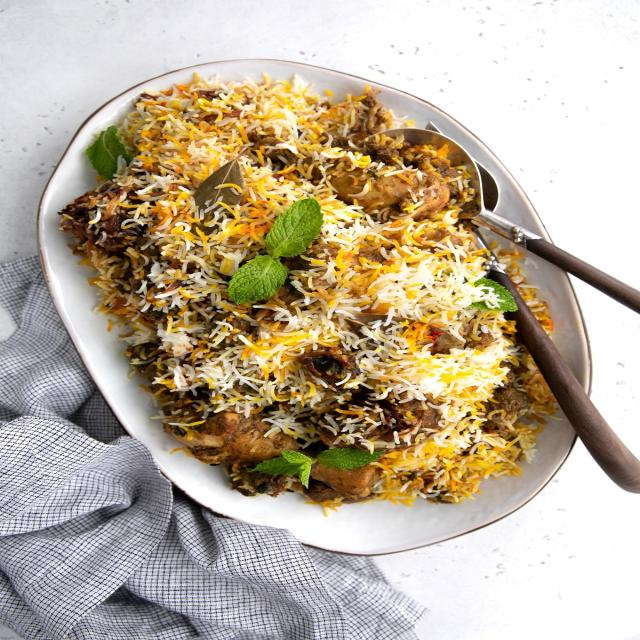chicken biryani: (125, 98, 519, 502)
